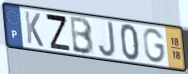0: (119, 23, 141, 63)
B: (70, 15, 96, 57)
G: (142, 27, 167, 65)
J: (97, 20, 117, 59)
K: (23, 10, 45, 49)
Z: (44, 13, 72, 53)
